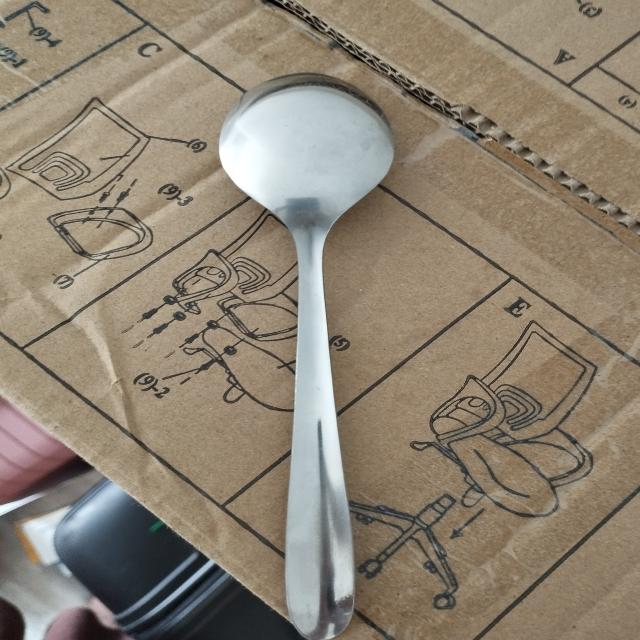Spoon: (222, 66, 412, 640)
